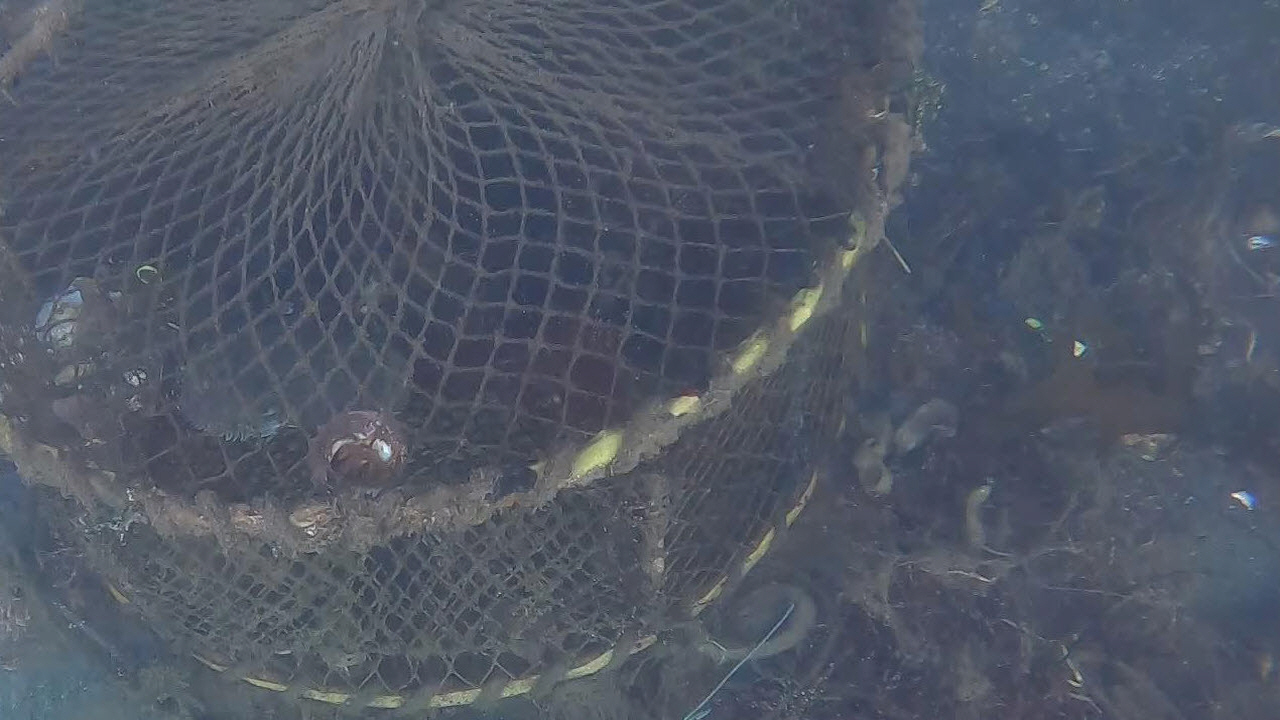circular fish trap: (0, 0, 875, 709)
